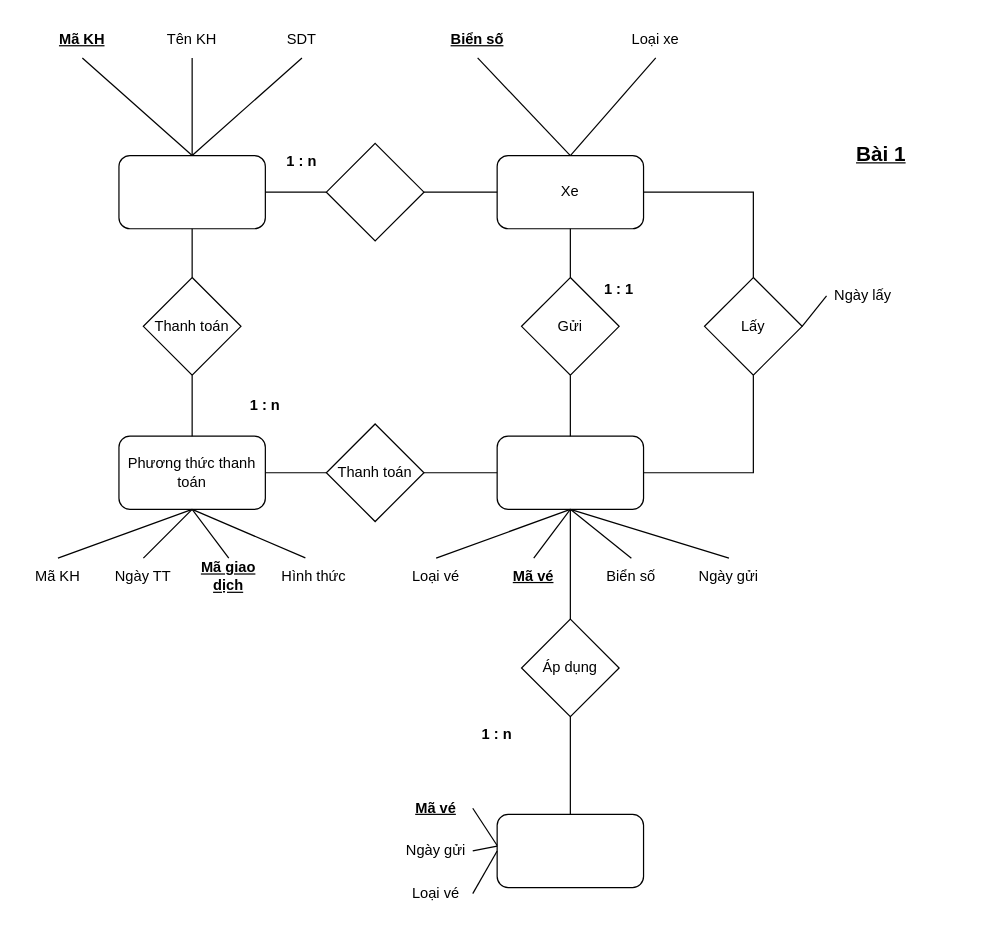
This 993x932 diagram has some shape labels left out. The centre of each missing label's shape, as x and y in pixels:
"Giá vé" goes at (570,850).
"Khách hàng" goes at (191,191).
"Sở hữu" goes at (374,191).
"Vé" goes at (570,472).
